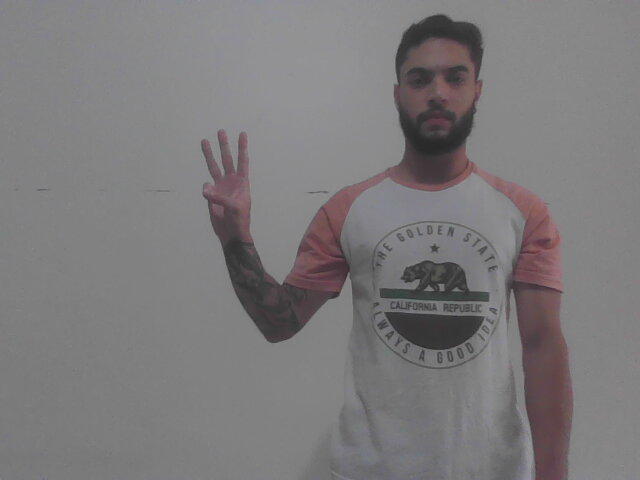w: (190, 125, 263, 249)
